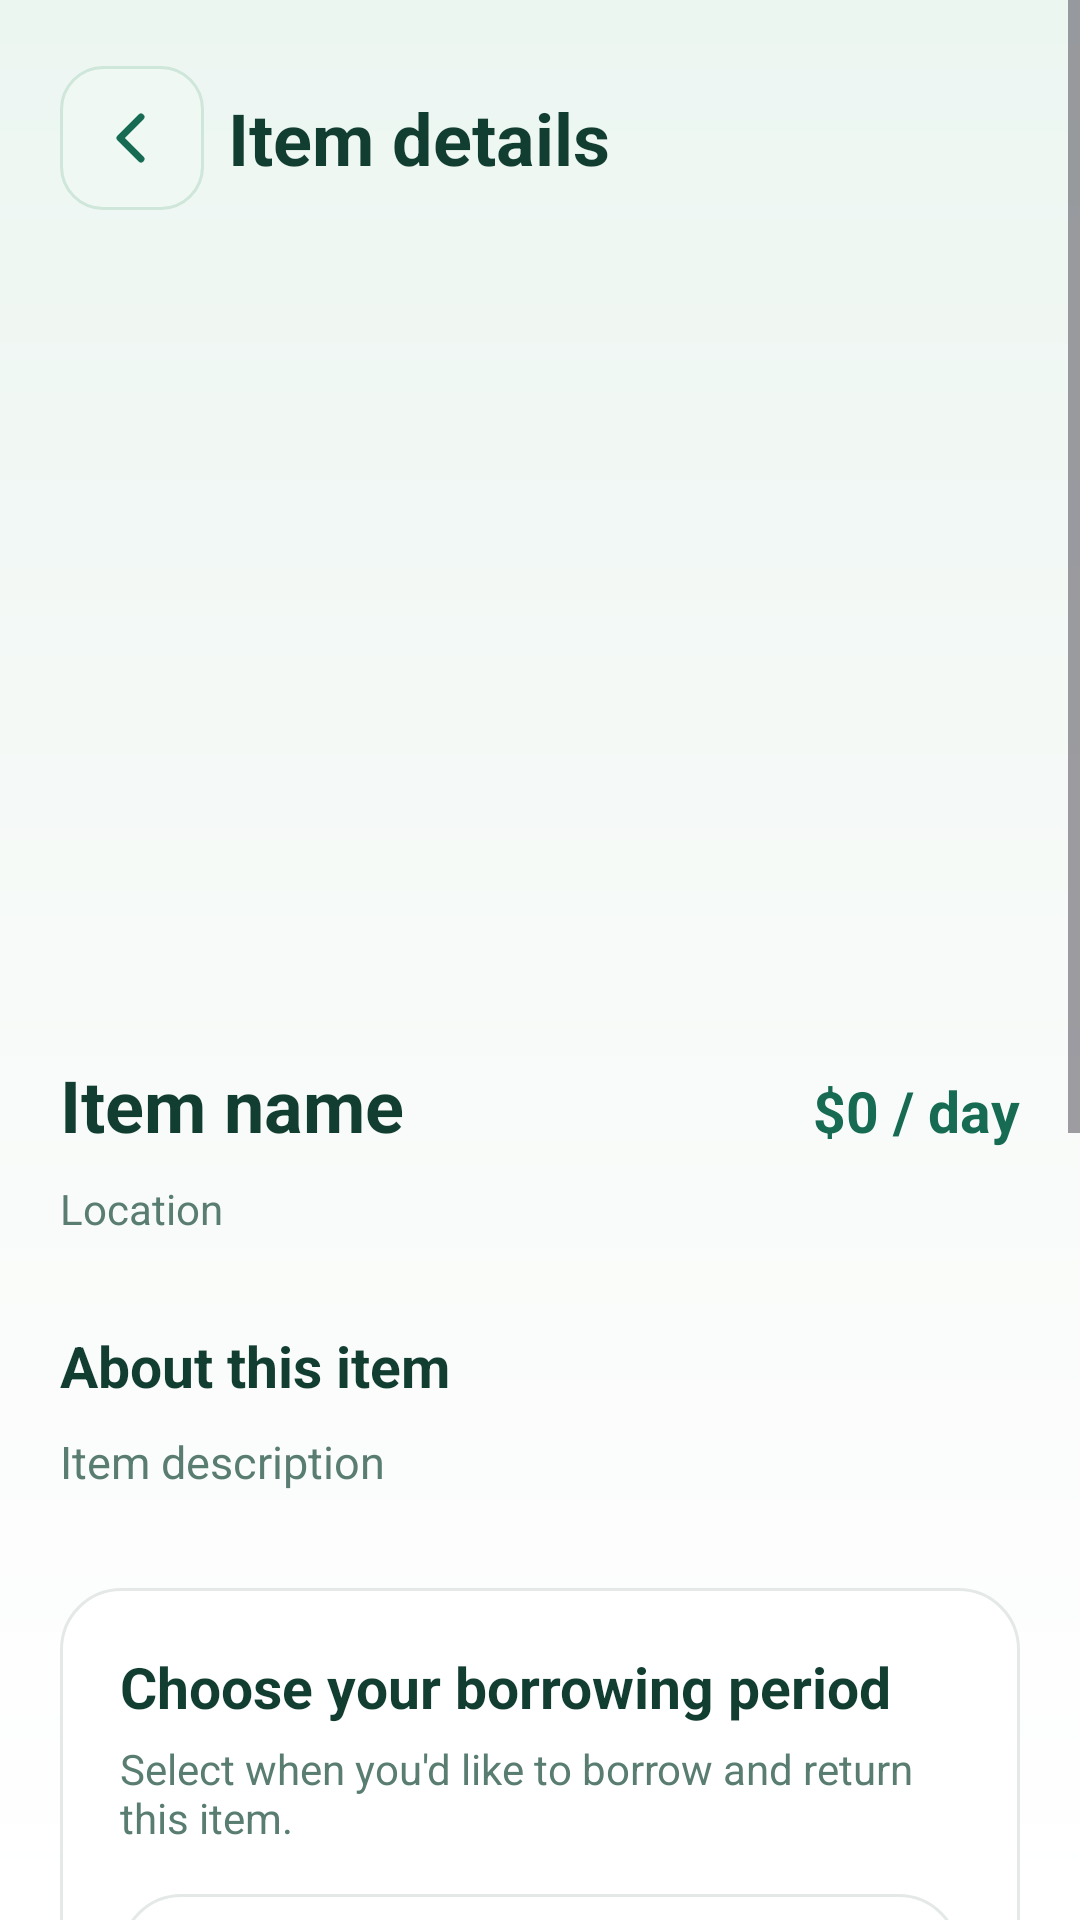

Locate icon controls on the screen. Image size 1080 × 1920, boxes as (x1=x1, y1=y1, x2=x2, y2=y2).
Back: (x1=60, y1=66, x2=204, y2=210)
